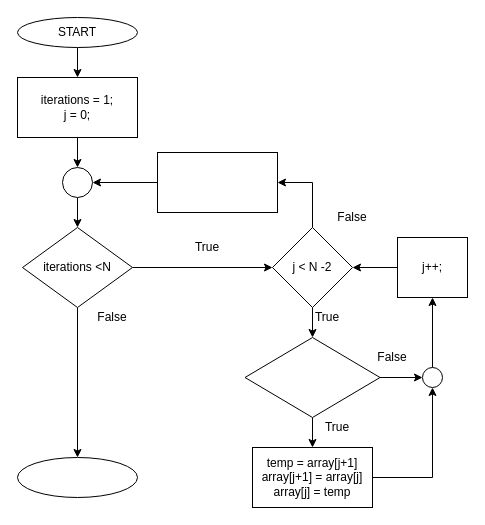
Image size: 485x525. Some labels were removed from this diagram. Here are the shapes that lost their labels. From the top down, the centre of each, then its label:
At [217,182]: "interration++;".
At [312,377]: "Array[j] > array [j+1]".
At [77,477]: "END".
